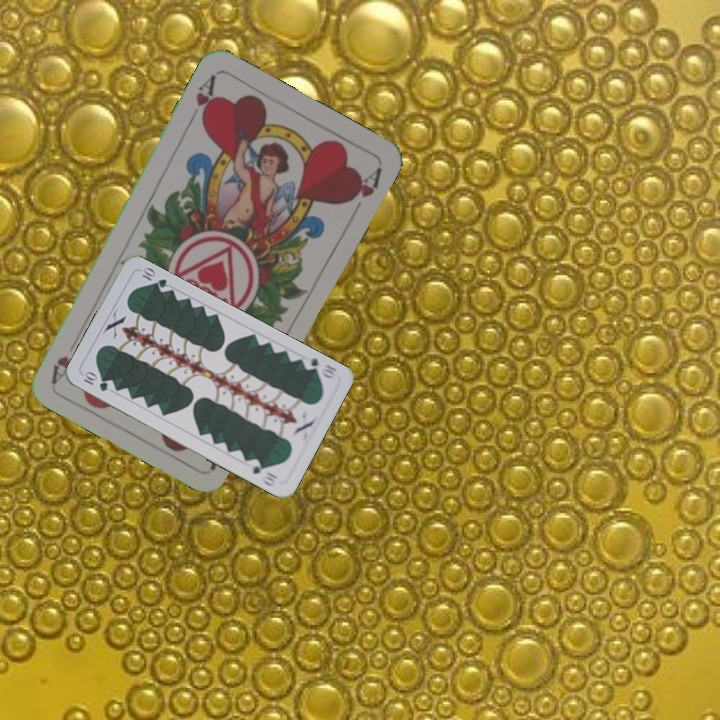G10: (299, 353, 340, 381), (79, 368, 111, 394)
HA: (185, 71, 219, 127)
